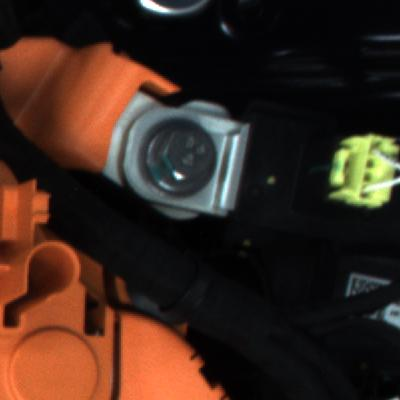nut_b: (139, 117, 226, 203)
